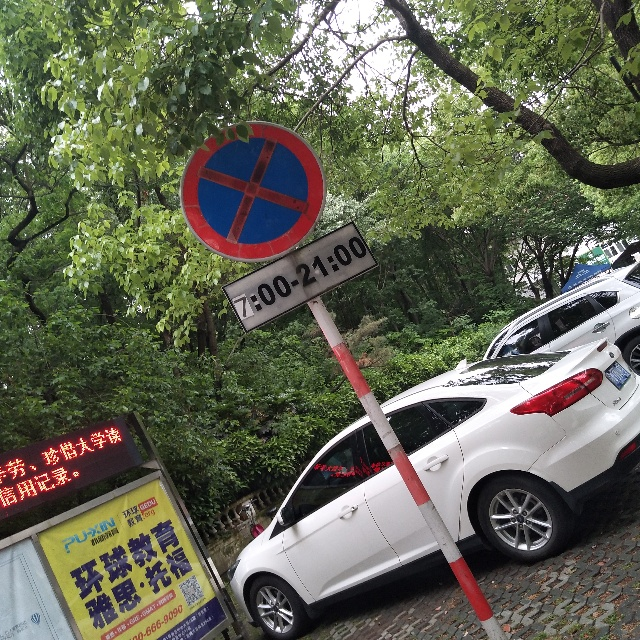stop: (192, 137, 313, 247)
